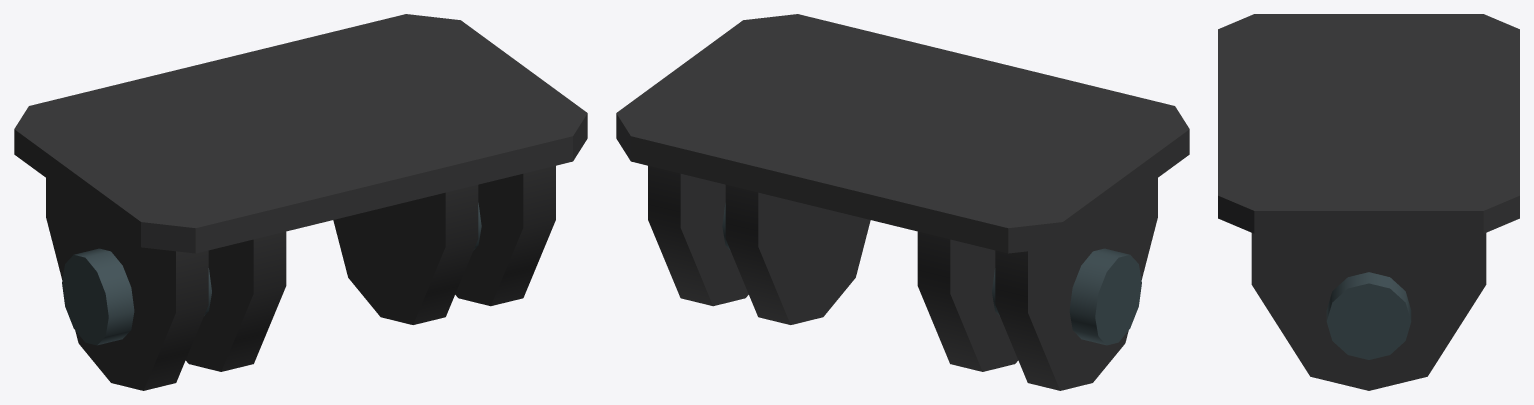
File: Turret_002_Port_04.fbx
The picture shows the model from 3 angles, left to right: view 1: azimuth 30°, elevation 25°; view 2: azimuth 150°, elevation 25°; view 3: azimuth 270°, elevation 25°; orthographic projection. The views are drawn at different scales.
Visible parts, largest first — view 1: Turret_002_Port_04; view 2: Turret_002_Port_04; view 3: Turret_002_Port_04.
Part boxes in pixels (x1=…): Turret_002_Port_04: x1=14, y1=14, x2=587, y2=390; Turret_002_Port_04: x1=616, y1=14, x2=1189, y2=390; Turret_002_Port_04: x1=1218, y1=14, x2=1519, y2=390.
Size of the model in its own units: 96.06 by 62.18 by 44.3.
